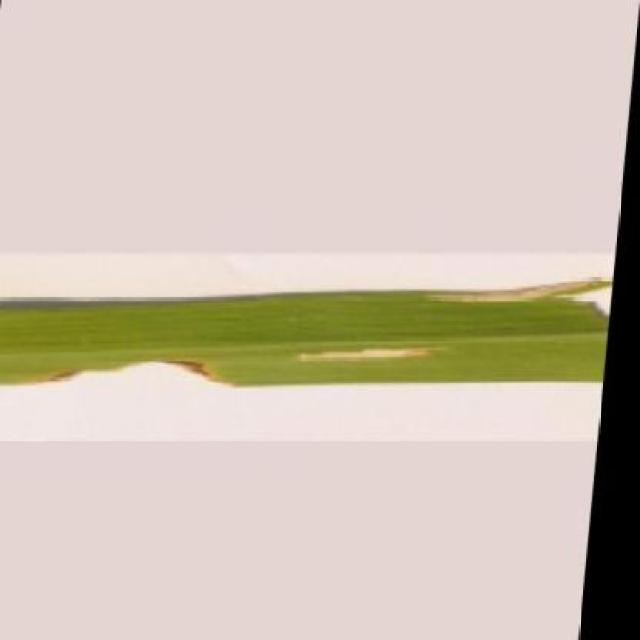Brown_Spot: (0, 270, 618, 392)
